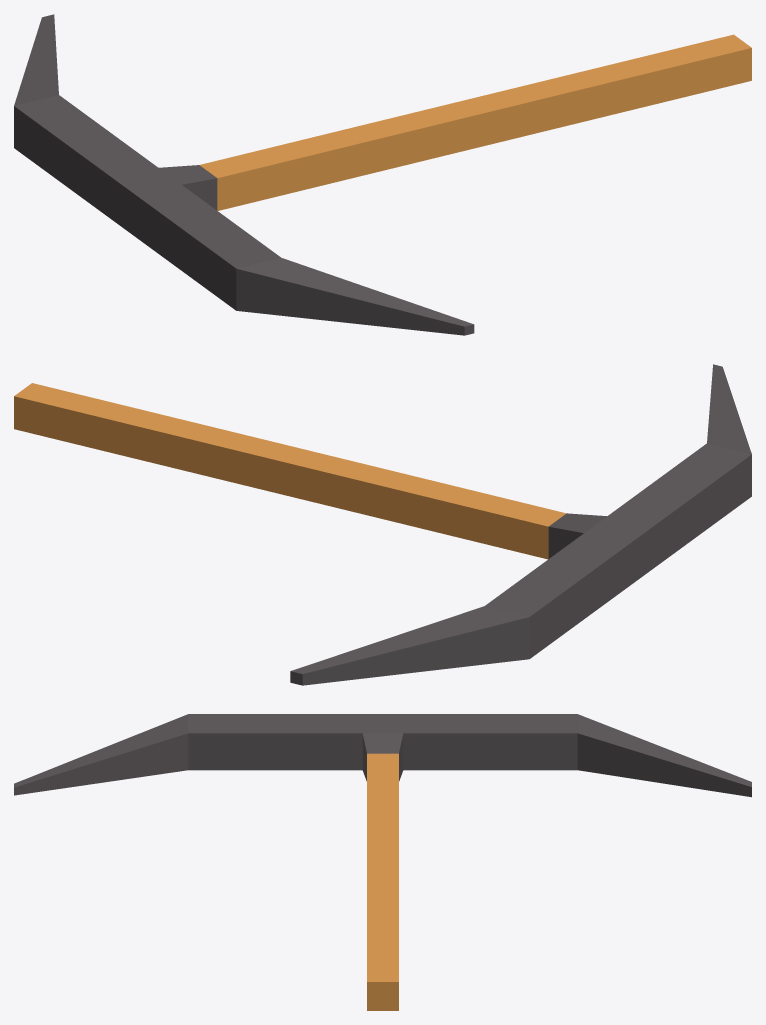
File: iron_pickaxe.glb
The picture shows the model from 3 angles, top to bottom: view 1: azimuth 30°, elevation 25°; view 2: azimuth 150°, elevation 25°; view 3: azimuth 270°, elevation 25°; orthographic projection. The views are drawn at different scales.
Visible parts, largest first — view 1: Cube; view 2: Cube; view 3: Cube.
Boxes of the visible parts, x1,y1,x2,y2 form: Cube: (14, 14, 751, 335); Cube: (14, 364, 751, 685); Cube: (14, 714, 751, 1010).
Bounding box in the file's own units: 16.03 × 1.05 × 18.94.
